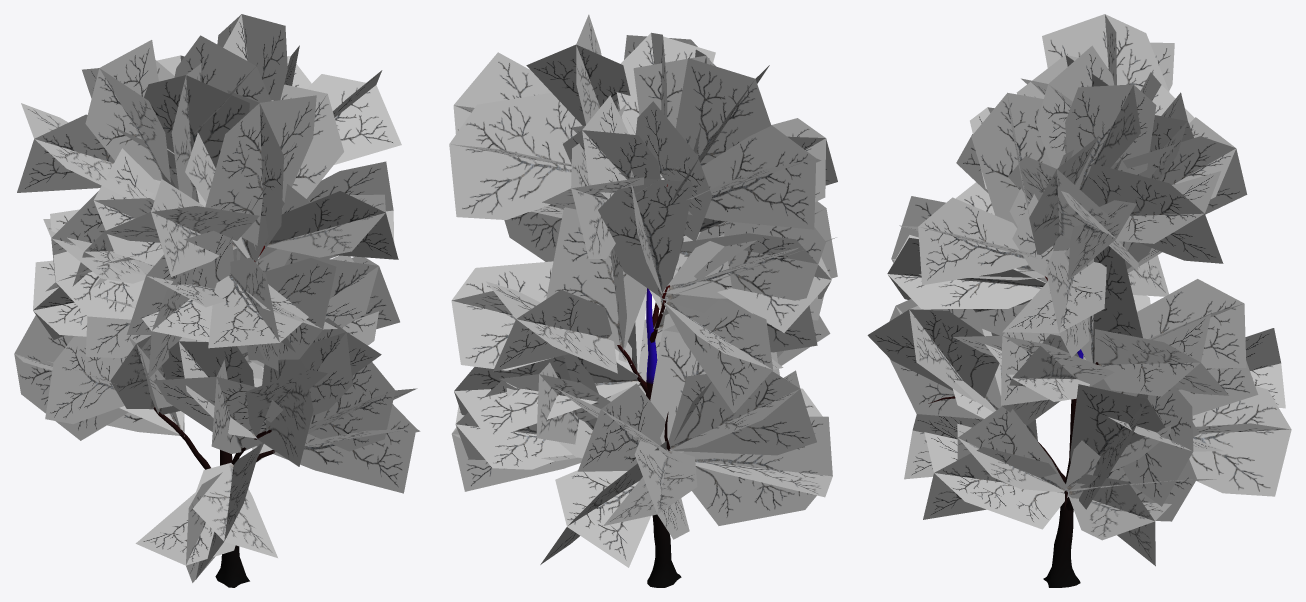
File: Tree_C_07.FBX
3 renders of one model, left to right at view 1: azimuth 30°, elevation 25°; view 2: azimuth 150°, elevation 25°; view 3: azimuth 270°, elevation 25°, orthographic. The views are drawn at different scales.
Visible parts, largest first — view 1: Tree_C_07_LOD0; view 2: Tree_C_07_LOD0; view 3: Tree_C_07_LOD0.
Boxes of the visible parts, bbox=[...] form: Tree_C_07_LOD0: bbox=[14, 14, 420, 587]; Tree_C_07_LOD0: bbox=[449, 14, 837, 587]; Tree_C_07_LOD0: bbox=[867, 14, 1291, 587].
Size of what is drawn, in the model's own units: 569 by 826 by 600.
